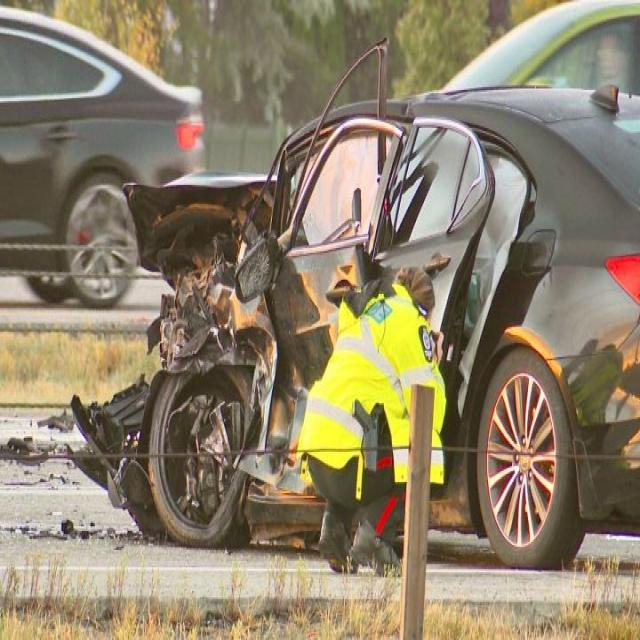Accident: (58, 34, 640, 573)
